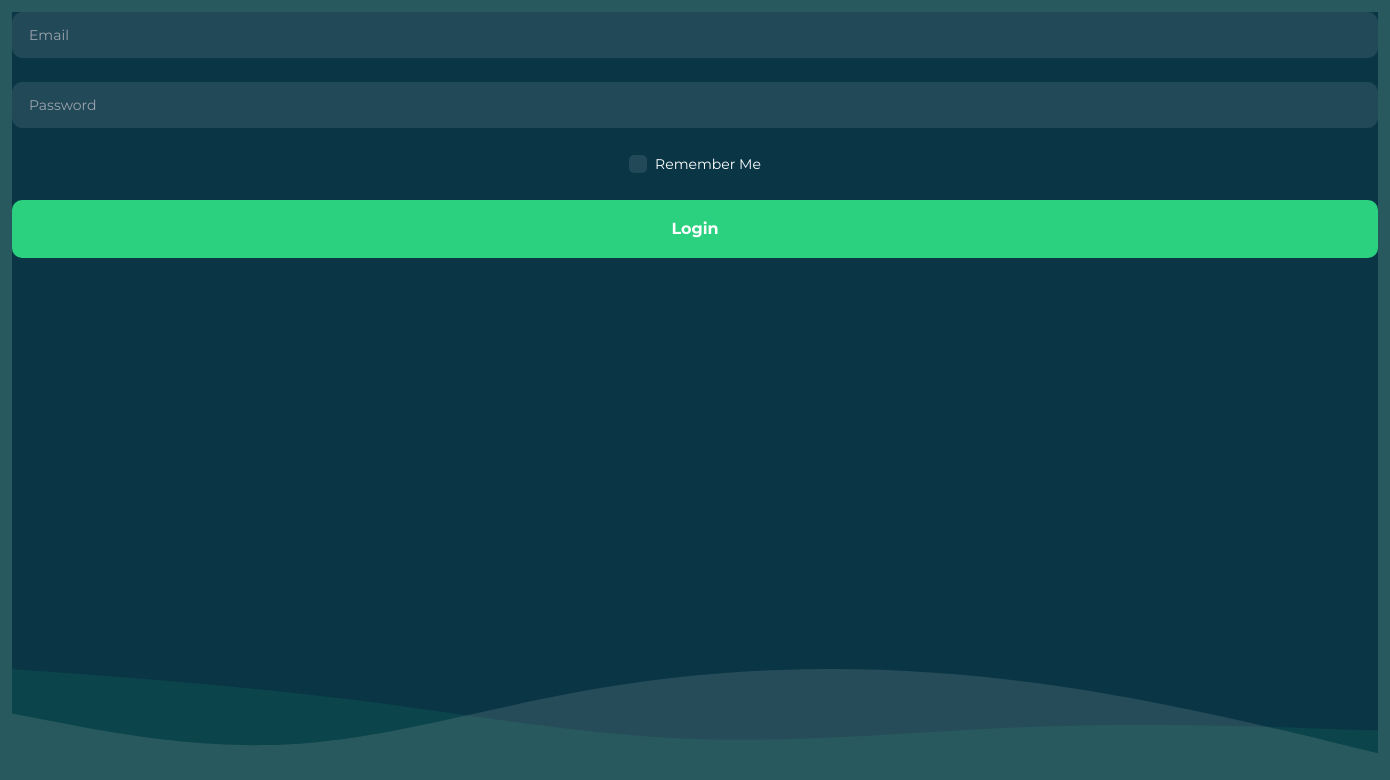
it: SigninForm Component › should display validation errors for invalid email and password
The width and height of the screenshot is (1390, 780).
Click the button "Login" at (695, 229), box [12,200,1378,258]
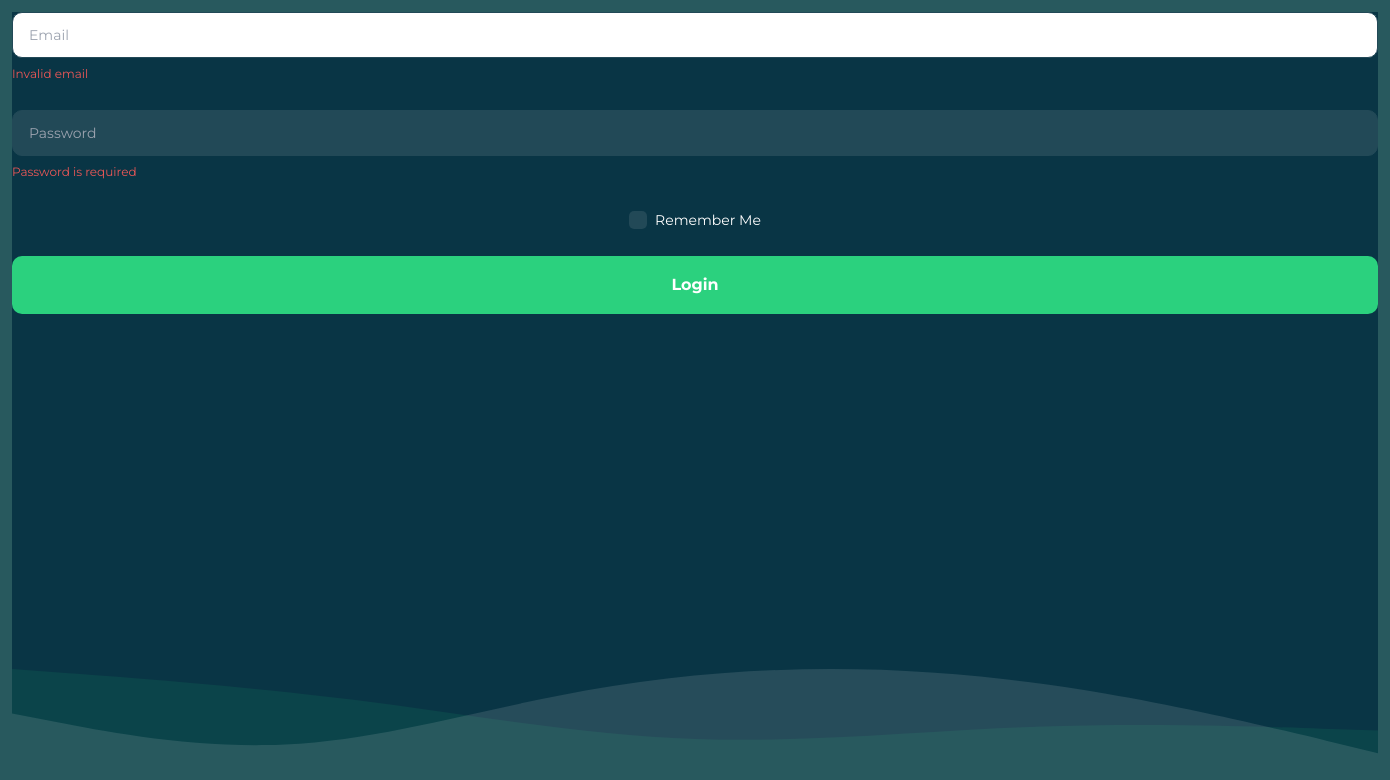
Expected: the text "Invalid email" is shown, [12,66,88,81]
Expected: the text "Password is required" is shown, [12,164,136,179]
